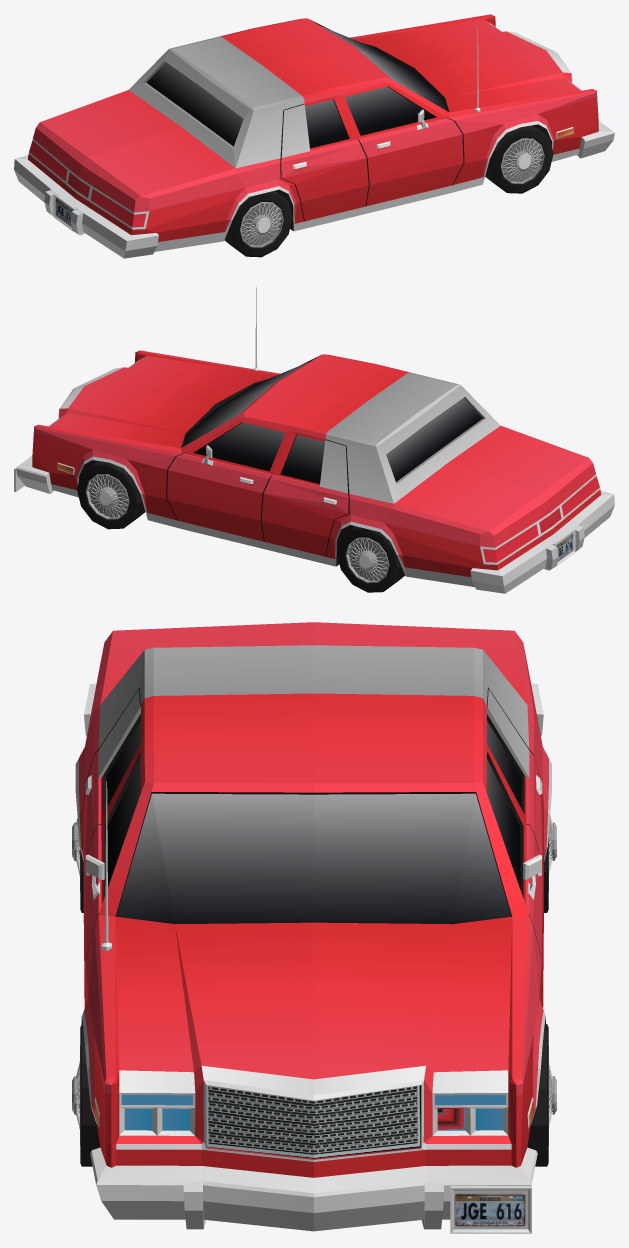
Rendered from Crysler_new_yorker_1980.obj.
3 views of the same model, one above another, from view 1: azimuth 30°, elevation 25°; view 2: azimuth 150°, elevation 25°; view 3: azimuth 270°, elevation 25° (orthographic). The views are drawn at different scales.
Parts seen in each view (by area): view 1: Crysler, Tire_front_L.3; view 2: Crysler, Tire_front_L.3; view 3: Crysler, Tire_front_L.3.
Part boxes in pixels (x1,y1,x2,y2): Crysler: (14,14,614,258); Tire_front_L.3: (224,125,553,257); Crysler: (14,287,614,593); Tire_front_L.3: (77,461,404,592); Crysler: (75,622,551,1233); Tire_front_L.3: (72,813,556,1166).
Size of the model in its own units: 494 by 158 by 203.
1 material, 1 textured.
